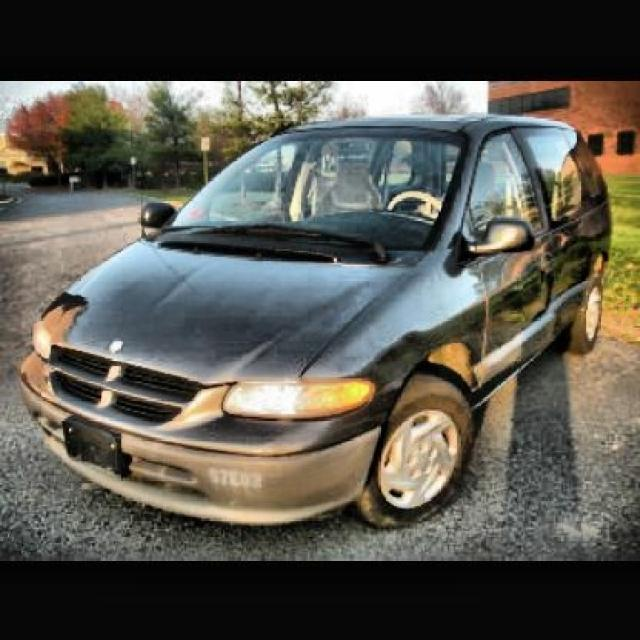black: (22, 118, 616, 523)
